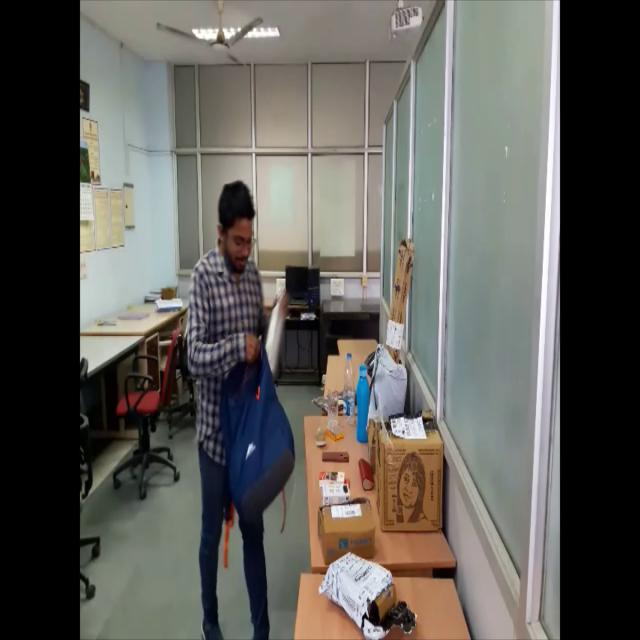shoplifting: (180, 175, 301, 638)
